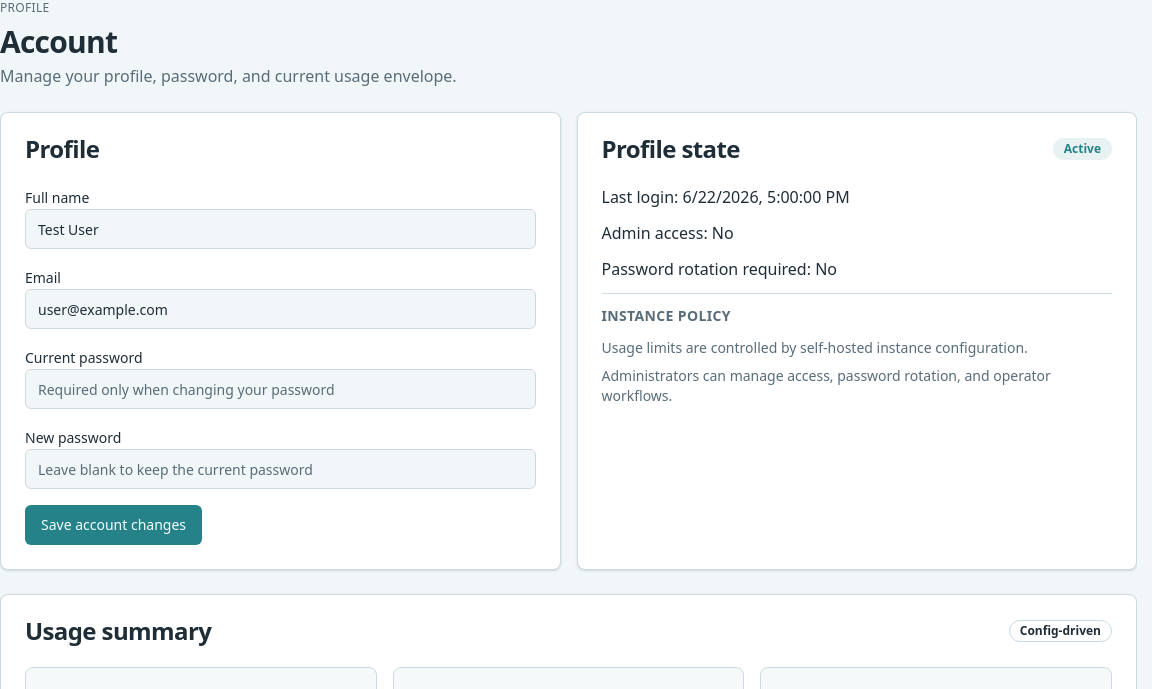
Test case: AccountPage › loads usage and saves profile updates
Check: the heading "Usage summary" is shown, box [25, 619, 211, 643]
Replace the text in the field labelled "Full name" with "Updated User" at (280, 229), box [25, 209, 536, 249]
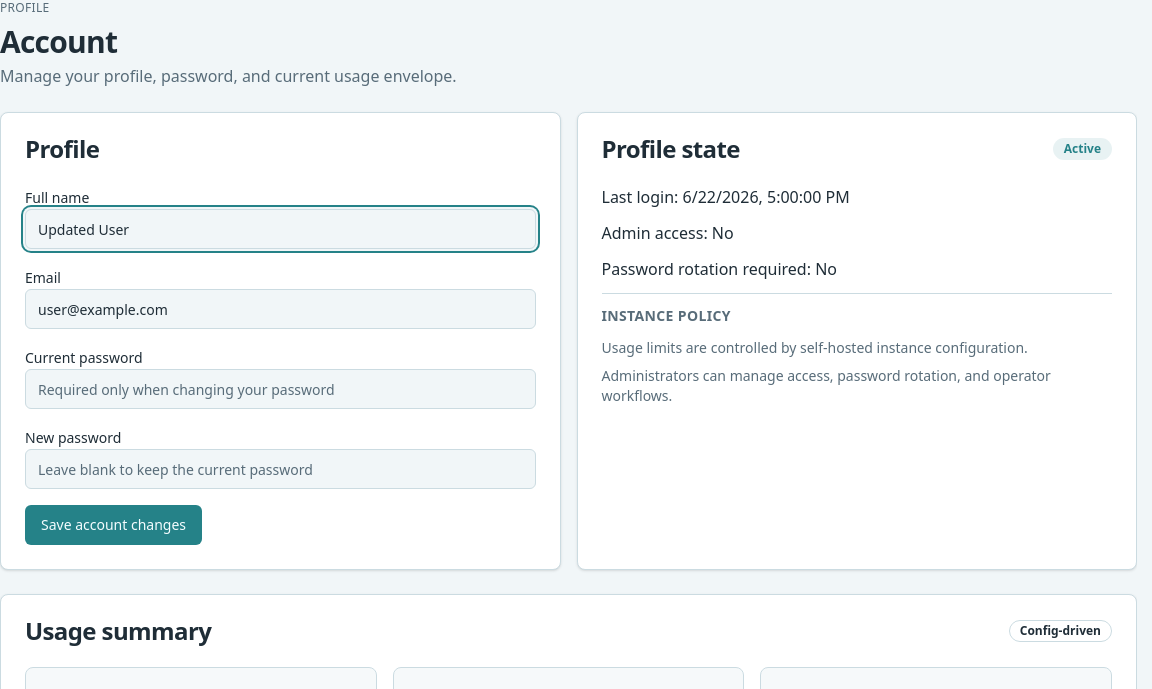
Click the button "Save account changes" at (114, 525), box [25, 505, 202, 545]
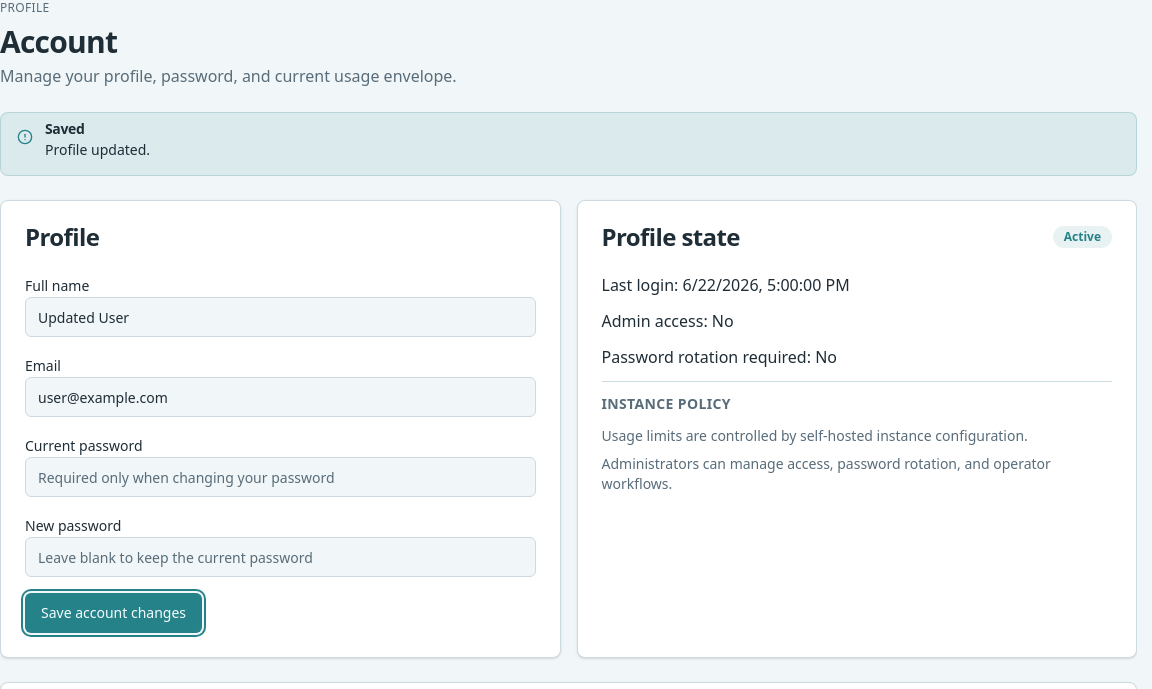
Check: the text "Profile updated." is shown, box [45, 140, 150, 159]
